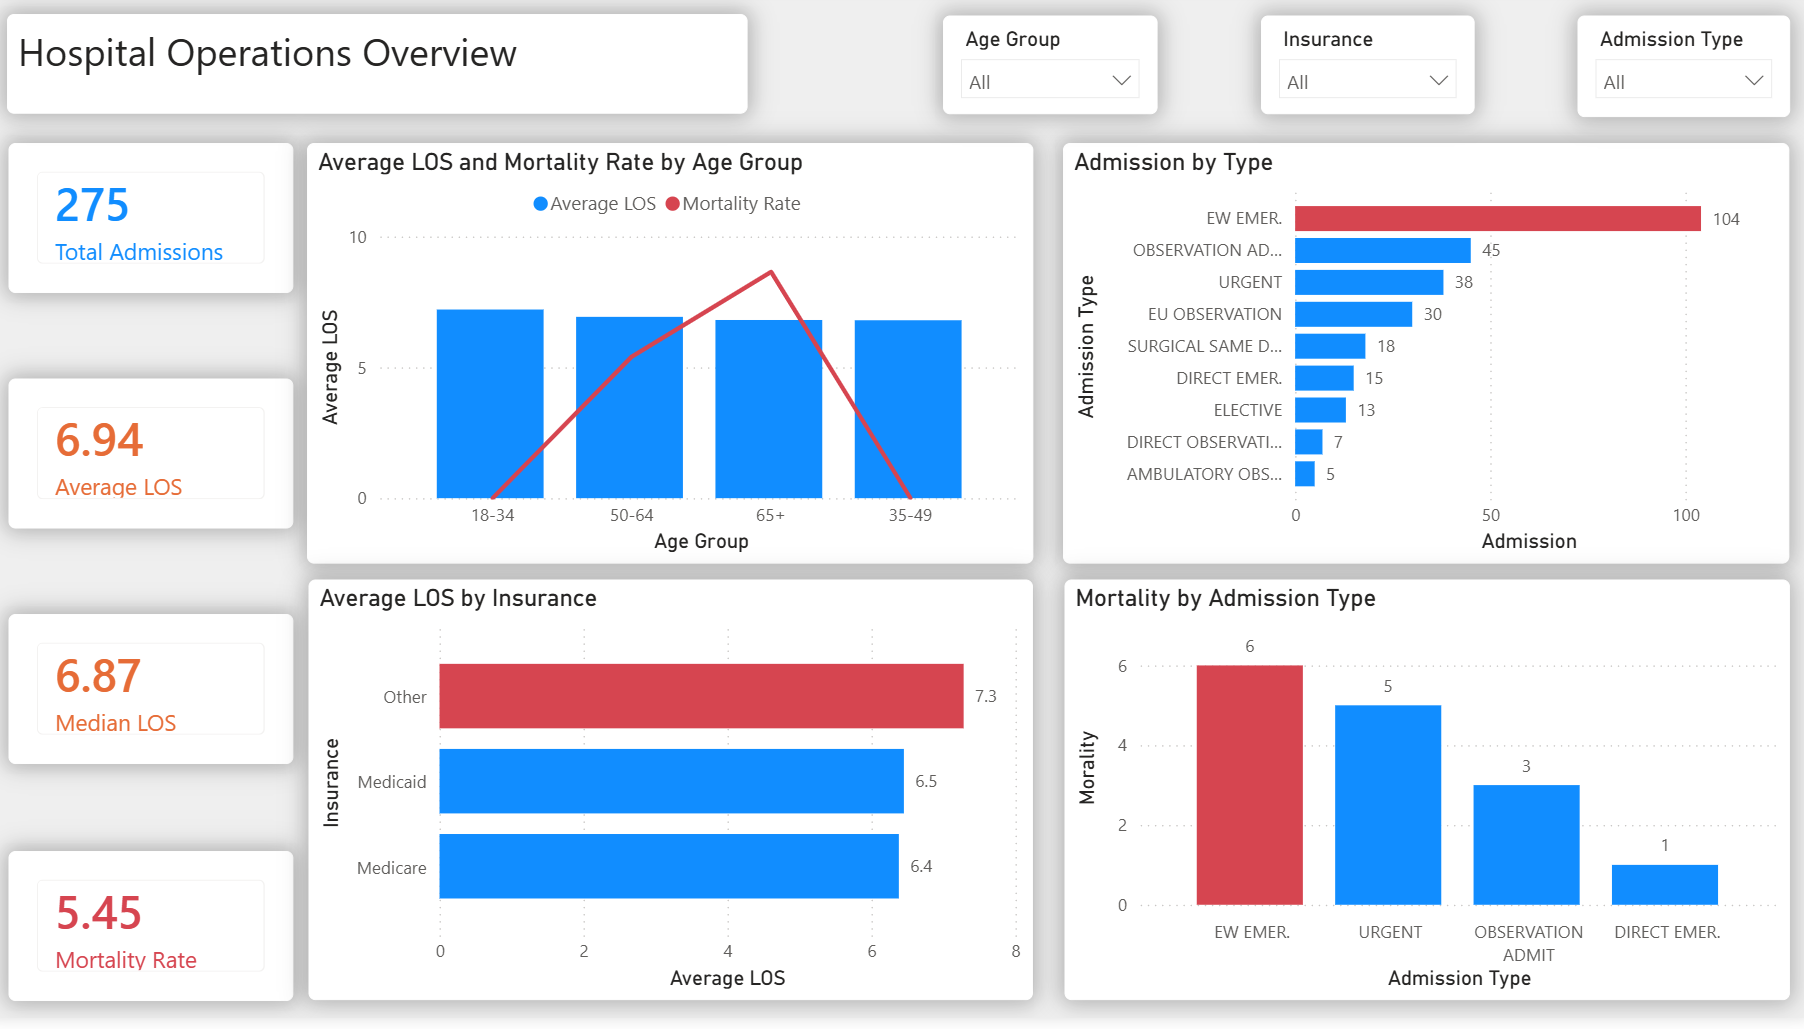

This screenshot's page, from the dashboard's own definition file:
{"tool":"powerbi","page":{"name":"Hospital Operations","canvas":[1280,720],"ordinal":1},"visuals":[{"type":"cardVisual","fields":{"Data":["Avg(public vw_age_summary.avg_los)"]},"box":[15.6,270.8,200.2,105.1],"z":0},{"type":"cardVisual","fields":{"Data":["Count(public vw_patient_diagnosis.hadm_id)"]},"box":[15.6,105.1,200.2,105.1],"z":1000},{"type":"cardVisual","fields":{"Data":["Median(public vw_age_summary.avg_los)"]},"box":[15.6,436.5,200.2,105.1],"z":2000},{"type":"cardVisual","fields":{"Data":["Avg(public vw_dashboard_kpis.mortality_rate)"]},"box":[15.6,602.1,200.2,105.1],"z":3000},{"type":"clusteredBarChart","title":"Admission by Type","fields":{"Category":["public patient_summary_view.admission_type"],"Y":["CountNonNull(public patient_summary_view.hadm_id)"]},"box":[756.7,105.1,509.8,295.4],"z":4000},{"type":"lineClusteredColumnComboChart","fields":{"Category":["public vw_age_summary.age_group"],"Y":["Avg(public vw_age_summary.avg_los)"],"Y2":["Avg(public vw_age_summary.mortality_rate)"]},"box":[225.4,105.1,510,295.4],"z":5000},{"type":"clusteredBarChart","title":"Average LOS by Insurance","fields":{"Category":["public vw_insurance_summary.insurance"],"Y":["Avg(public vw_insurance_summary.avg_los)"]},"box":[226.2,411.8,508.4,295.4],"z":6000},{"type":"clusteredColumnChart","title":"Mortality by Admission Type","fields":{"Y":["Sum(public patient_analysis_view.hospital_expire_flag)"],"Category":["public patient_analysis_view.admission_type"]},"box":[757.1,411.8,509,295.4],"z":7000},{"type":"textbox","box":[15,15,520,70],"z":8000},{"type":"slicer","fields":{"Values":["public patient_analysis_view.admission_type"]},"box":[1117.6,15.6,149.1,71],"z":8001},{"type":"slicer","fields":{"Values":["public patient_analysis_view.insurance"]},"box":[894.9,15.6,150,69.6],"z":8002},{"type":"slicer","fields":{"Values":["public vw_age_summary.age_group"]},"box":[671.7,15.6,150.5,69.6],"z":8003}]}

Visuals, with their boxes in screenshot pixels (x1, y1, x2, y2), scaled from the page's 1280x720 canvas onto the 1804x1029 screenshot:
cardVisual - Avg(public vw_age_summary.avg_los): (22,387,304,537)
cardVisual - Count(public vw_patient_diagnosis.hadm_id): (22,150,304,300)
cardVisual - Median(public vw_age_summary.avg_los): (22,624,304,774)
cardVisual - Avg(public vw_dashboard_kpis.mortality_rate): (22,861,304,1011)
"Admission by Type" clusteredBarChart: (1066,150,1785,572)
lineClusteredColumnComboChart - public vw_age_summary.age_group x Avg(public vw_age_summary.avg_los): (318,150,1036,572)
"Average LOS by Insurance" clusteredBarChart: (319,589,1035,1011)
"Mortality by Admission Type" clusteredColumnChart: (1067,589,1784,1011)
textbox: (21,21,754,121)
slicer - public patient_analysis_view.admission_type: (1575,22,1785,124)
slicer - public patient_analysis_view.insurance: (1261,22,1473,122)
slicer - public vw_age_summary.age_group: (947,22,1159,122)
